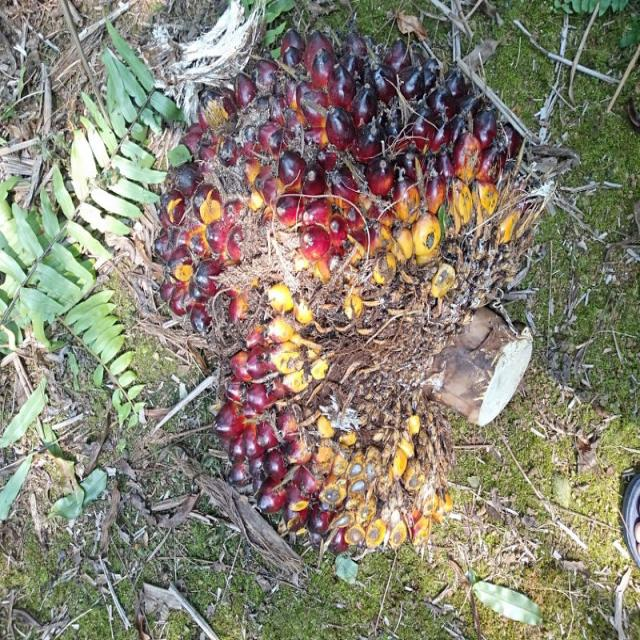fraksi 1: (119, 17, 548, 567)
